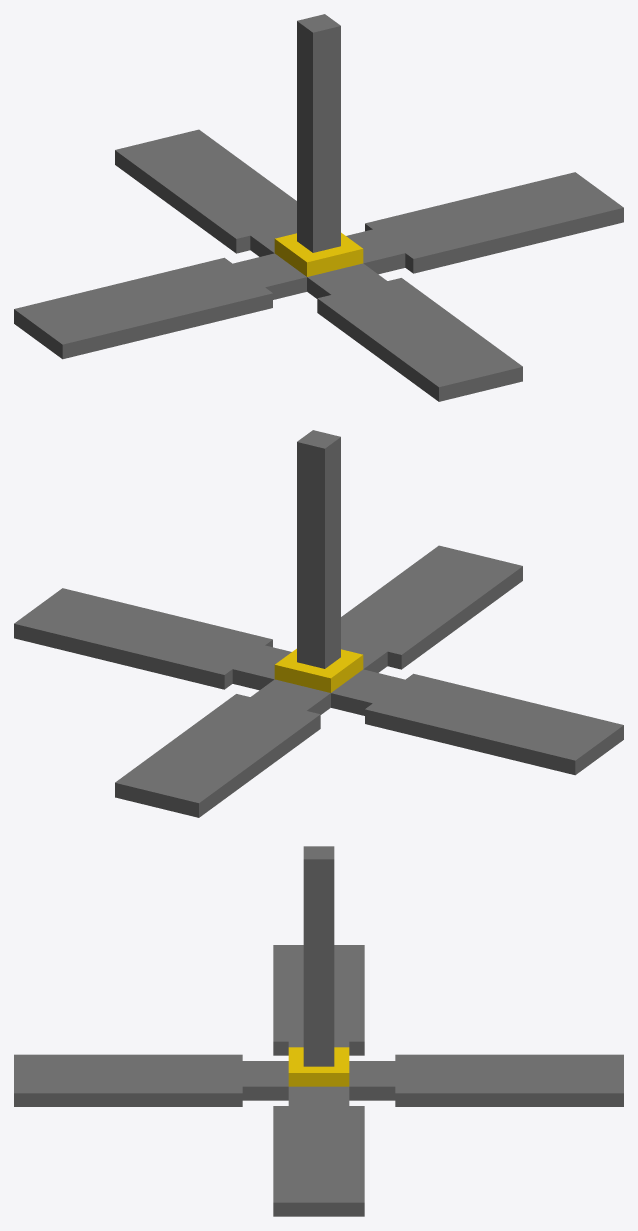
File: SchoolPack-46-living room fan.obj
3 views of the same model, one above another, from view 1: azimuth 30°, elevation 25°; view 2: azimuth 150°, elevation 25°; view 3: azimuth 270°, elevation 25° (orthographic). The views are drawn at different scales.
Parts seen in each view (by area): view 1: living room fan; view 2: living room fan; view 3: living room fan.
Boxes of the visible parts, x1,y1,x2,y2 form: living room fan: (14, 14, 623, 401); living room fan: (14, 430, 623, 817); living room fan: (14, 846, 623, 1216).
Size of the model in its own units: 4 by 1.7 by 4.
Materials: 1 (1 with a texture image).
